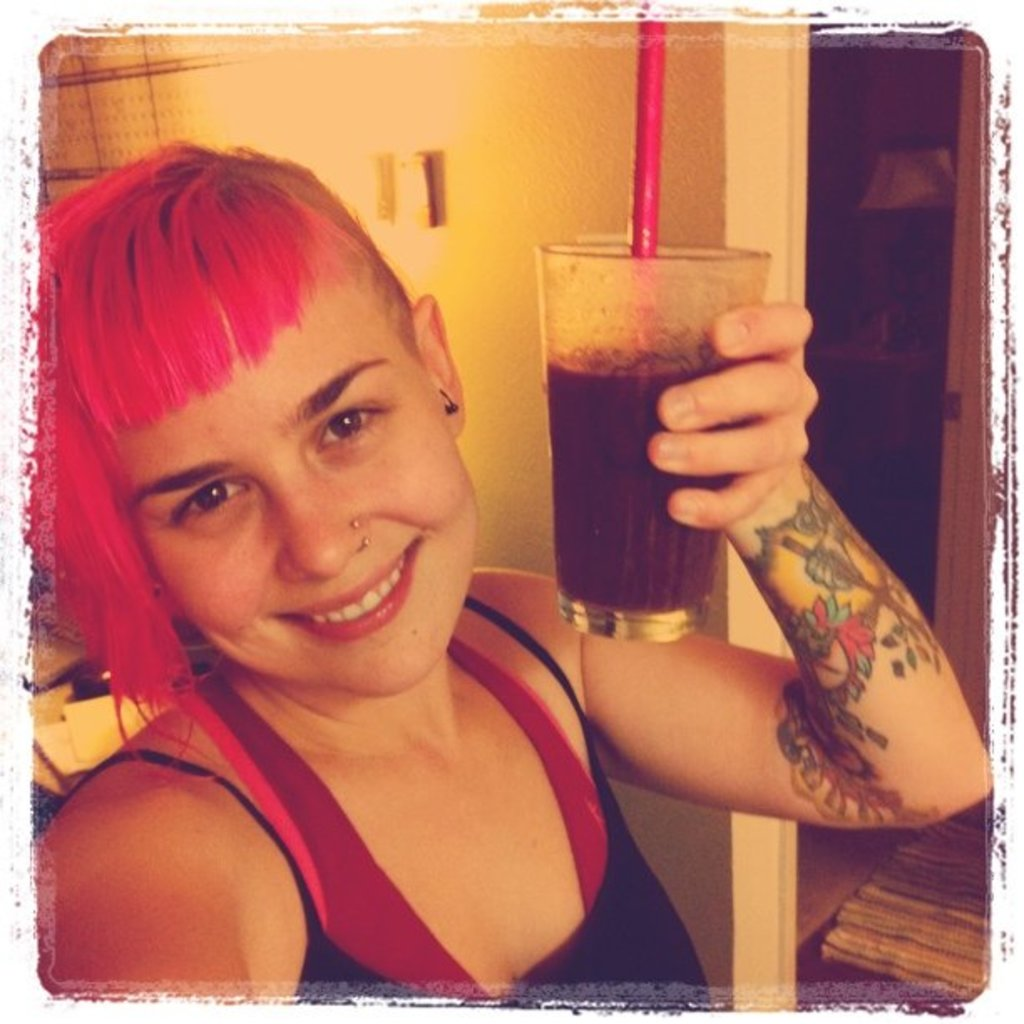Beer: (537, 214, 764, 672)
